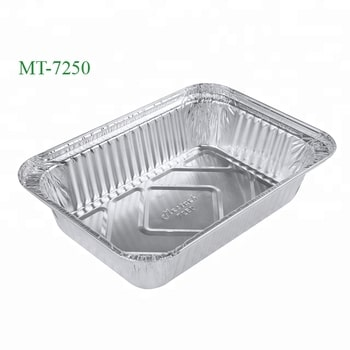metal: (16, 82, 338, 291)
